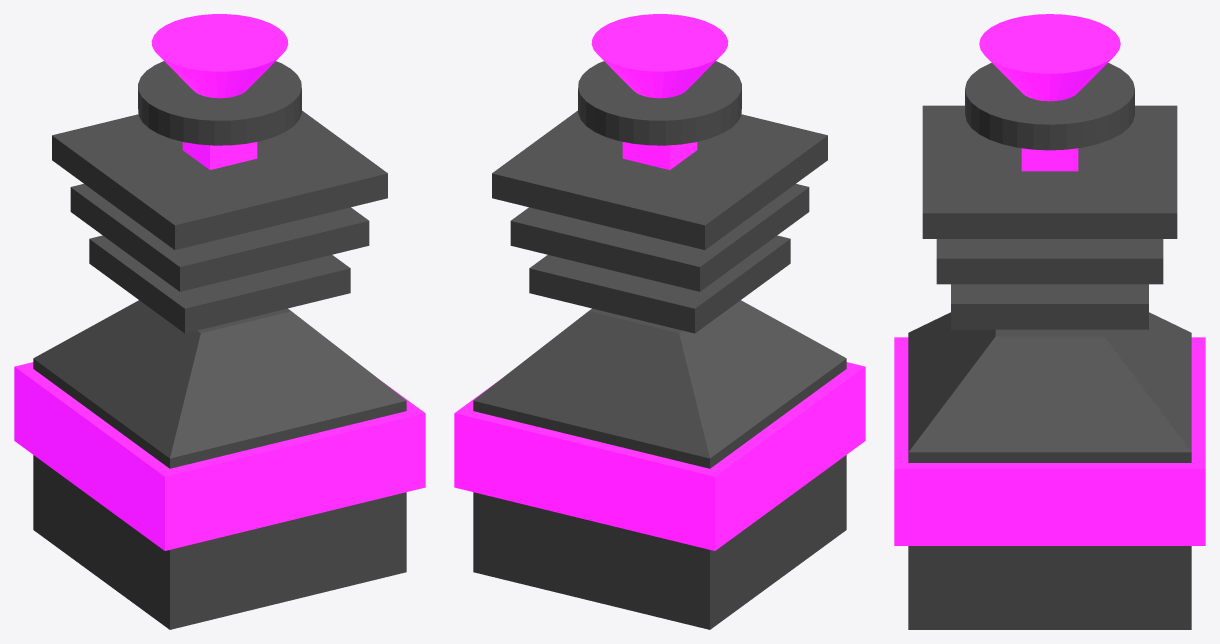
3 views of the same model, side by side, from view 1: azimuth 30°, elevation 25°; view 2: azimuth 150°, elevation 25°; view 3: azimuth 270°, elevation 25° (orthographic). The views are drawn at different scales.
Visible parts, largest first — view 1: Cube, Cube.004, Cube.002, Cube.003, Cube.005, Cylinder, Cone, Cube.001; view 2: Cube, Cube.004, Cube.002, Cube.003, Cube.005, Cylinder, Cone, Cube.001; view 3: Cube, Cube.004, Cube.002, Cube.003, Cylinder, Cube.005, Cone, Cube.001.
Boxes of the visible parts, x1,y1,x2,y2 form: Cube: (33, 300, 406, 629); Cube.004: (14, 362, 425, 550); Cube.002: (52, 110, 387, 249); Cube.003: (70, 184, 369, 291); Cube.005: (89, 235, 350, 333); Cylinder: (138, 61, 301, 145); Cone: (151, 14, 288, 98); Cube.001: (182, 142, 257, 169); Cube: (473, 300, 846, 629); Cube.004: (454, 362, 865, 550); Cube.002: (492, 110, 827, 249); Cube.003: (510, 184, 809, 291); Cube.005: (529, 235, 790, 333); Cylinder: (578, 61, 741, 145); Cone: (591, 14, 728, 98); Cube.001: (622, 142, 697, 169); Cube: (908, 312, 1191, 629); Cube.004: (894, 337, 1205, 545); Cube.002: (922, 105, 1177, 238); Cube.003: (936, 239, 1163, 284); Cylinder: (965, 63, 1134, 150); Cube.005: (951, 284, 1148, 329); Cone: (979, 14, 1120, 101); Cube.001: (1021, 148, 1078, 171).
Bounding box in the file's own units: 220 × 410 × 220.
